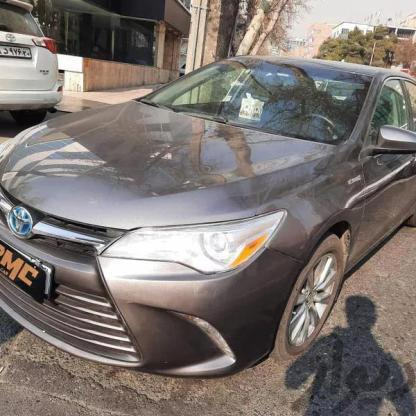Car: (0, 54, 416, 380), (0, 0, 65, 146)
